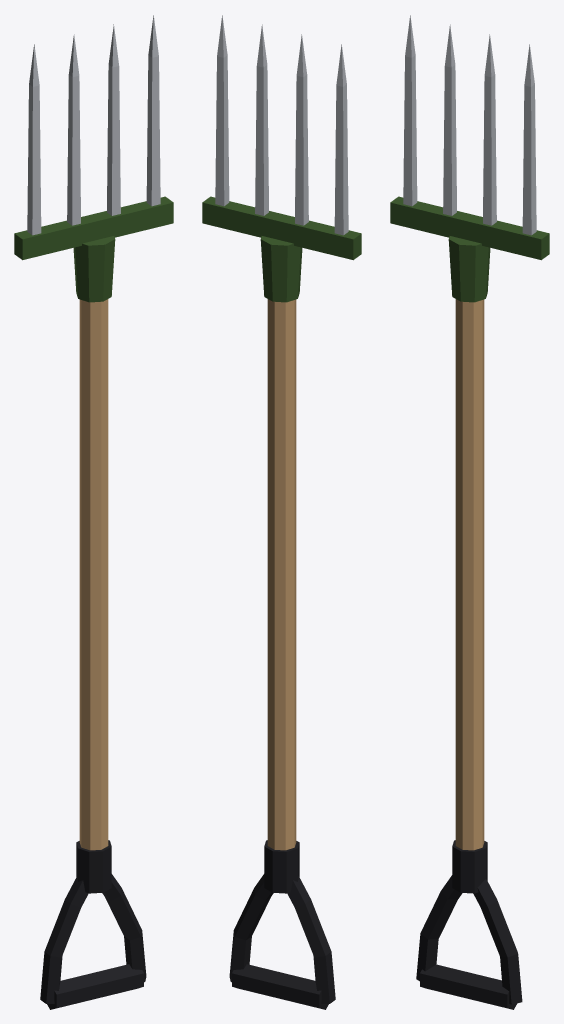
Rendered from garden-fork.glb.
3 views of the same model, side by side, from view 1: azimuth 30°, elevation 25°; view 2: azimuth 150°, elevation 25°; view 3: azimuth 330°, elevation 25° (orthographic).
Visible parts, largest first — view 1: garden_fork; view 2: garden_fork; view 3: garden_fork.
Part boxes in pixels (left/top/right/bottom): garden_fork: left=14, top=15, right=173, bottom=1009; garden_fork: left=202, top=15, right=361, bottom=1009; garden_fork: left=390, top=15, right=549, bottom=1009.
Bounding box in the file's own units: 0.19 × 1.17 × 0.048.
